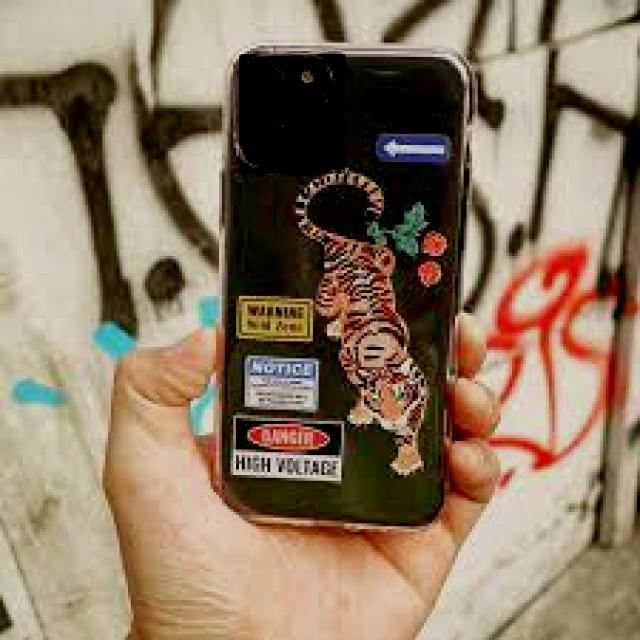lens: (240, 54, 345, 173)
phone: (217, 35, 478, 530)
